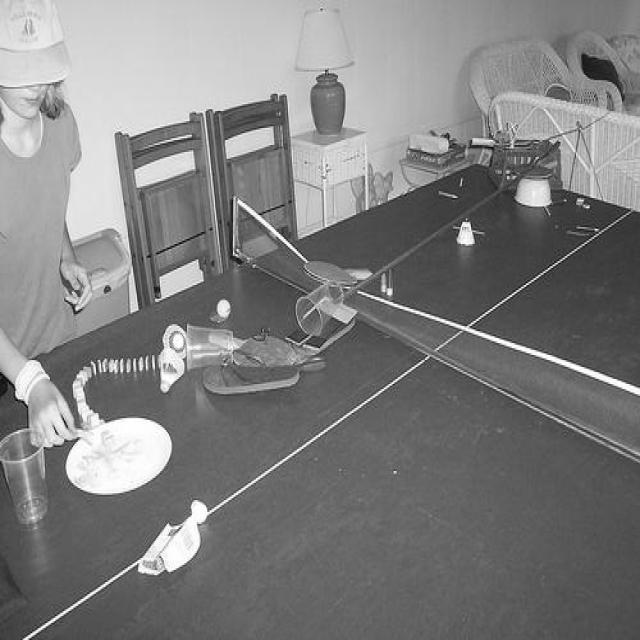ping-pong-ball: (216, 297, 232, 318)
